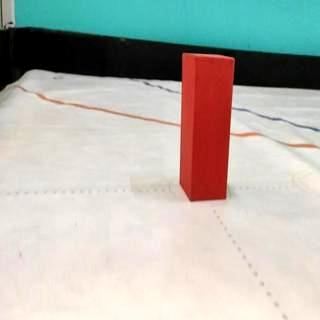redbox: (183, 55, 230, 200)
